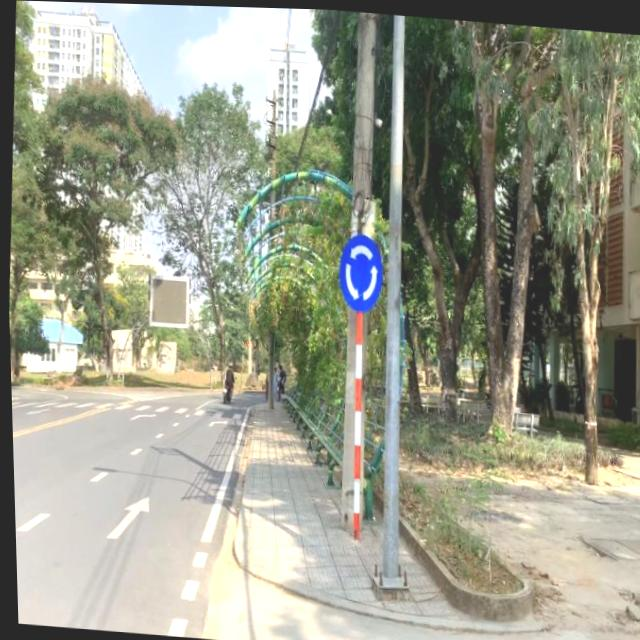Noi giao nhau chay theo vong xuyen: (334, 229, 385, 314)
